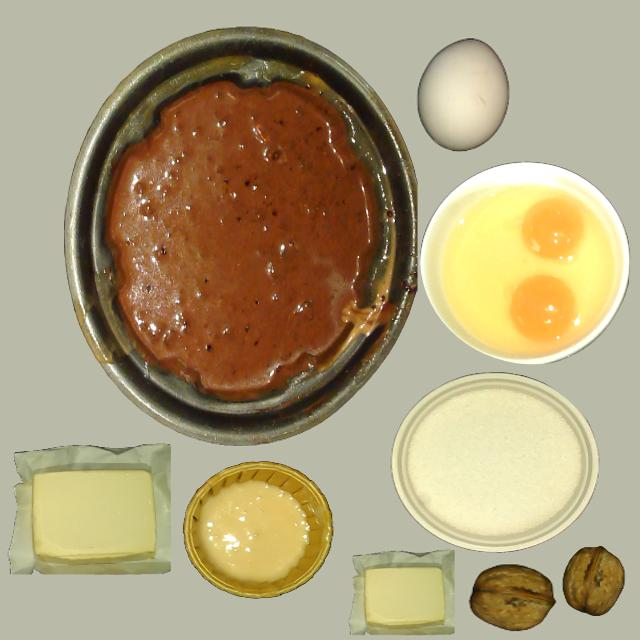Egg: (509, 275, 577, 342), (521, 198, 586, 260)
Sugar: (390, 373, 596, 552)
Walnut: (470, 564, 554, 632), (562, 547, 624, 615)
